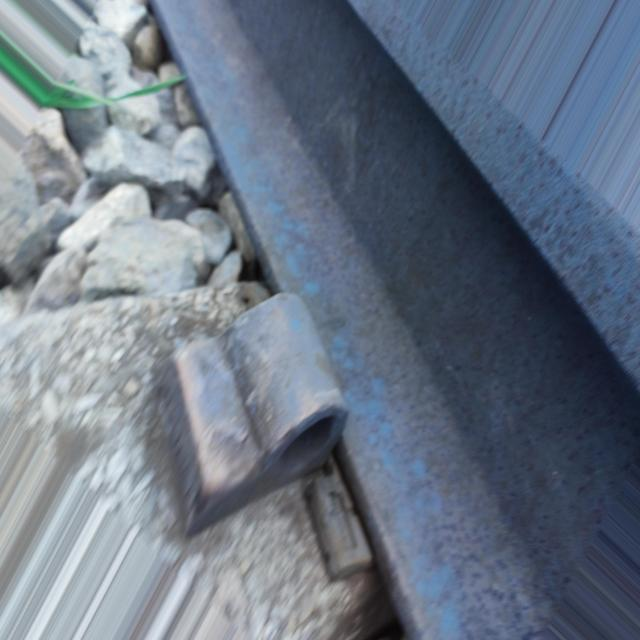Missing Fastener: (152, 267, 364, 540)
